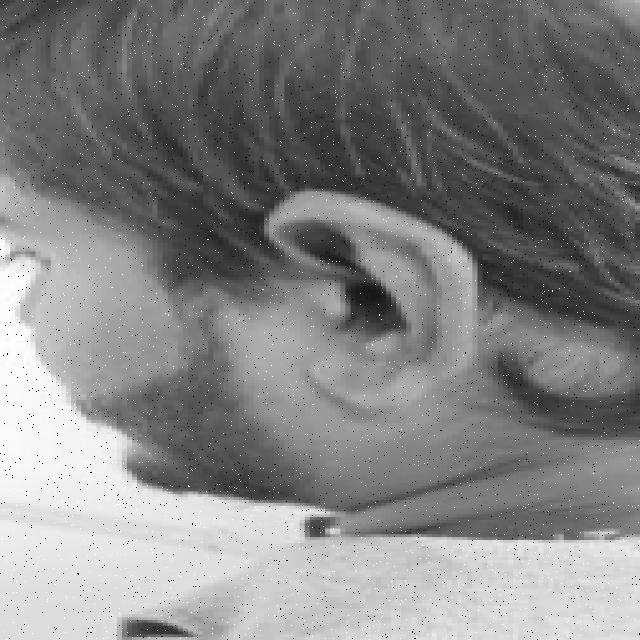ear: (264, 191, 472, 406)
